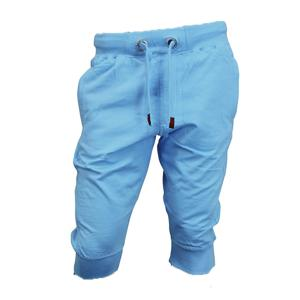C_sneakers: (61, 15, 243, 290)
